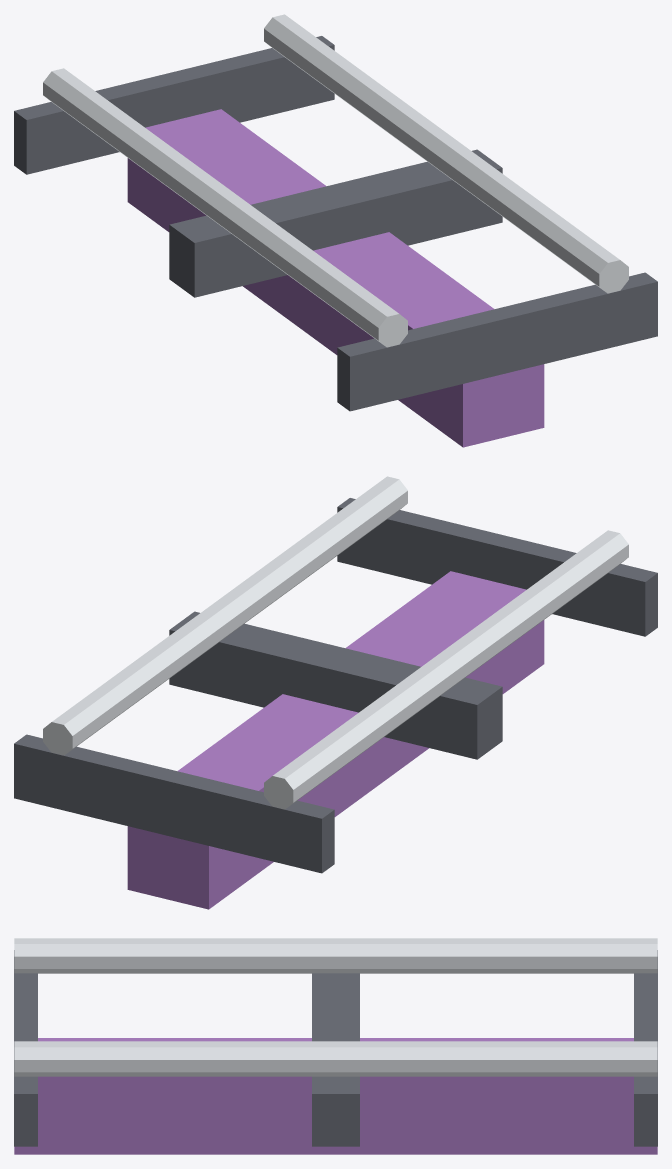
The model's file is theme-park-rides-and-coasters-theme-park-rides-and-coa-9f996e8f__28620.glb.
3 renders of one model, top to bottom at view 1: azimuth 30°, elevation 25°; view 2: azimuth 150°, elevation 25°; view 3: azimuth 270°, elevation 25°, orthographic. The views are drawn at different scales.
Visible parts, largest first — view 1: theme-park-rides-and-coasters-track-straight-2m; view 2: theme-park-rides-and-coasters-track-straight-2m; view 3: theme-park-rides-and-coasters-track-straight-2m.
Part boxes in pixels (left/top/right/bottom): theme-park-rides-and-coasters-track-straight-2m: left=14, top=14, right=657, bottom=447; theme-park-rides-and-coasters-track-straight-2m: left=14, top=476, right=657, bottom=909; theme-park-rides-and-coasters-track-straight-2m: left=14, top=938, right=657, bottom=1154.
Size of the model in its own units: 1.06 by 0.4908 by 2.
